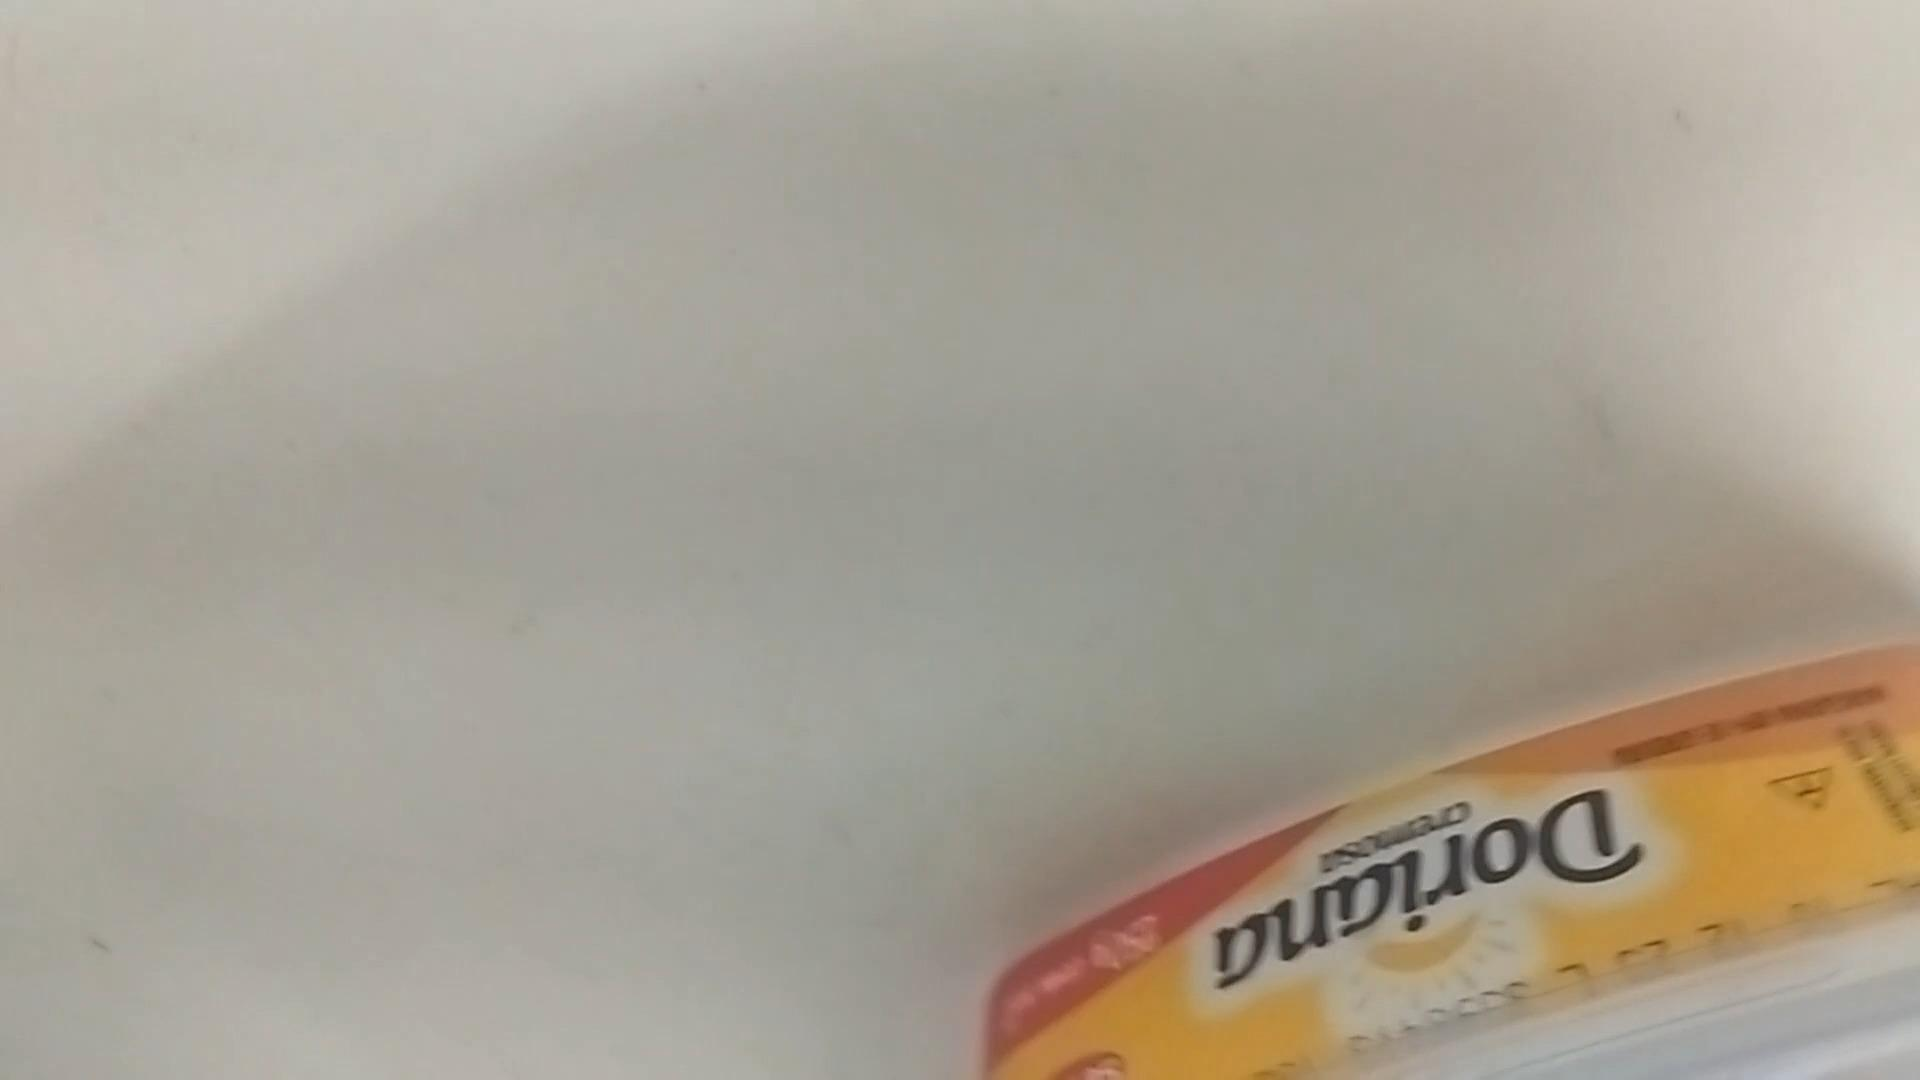butter: (969, 630, 1920, 1080)
